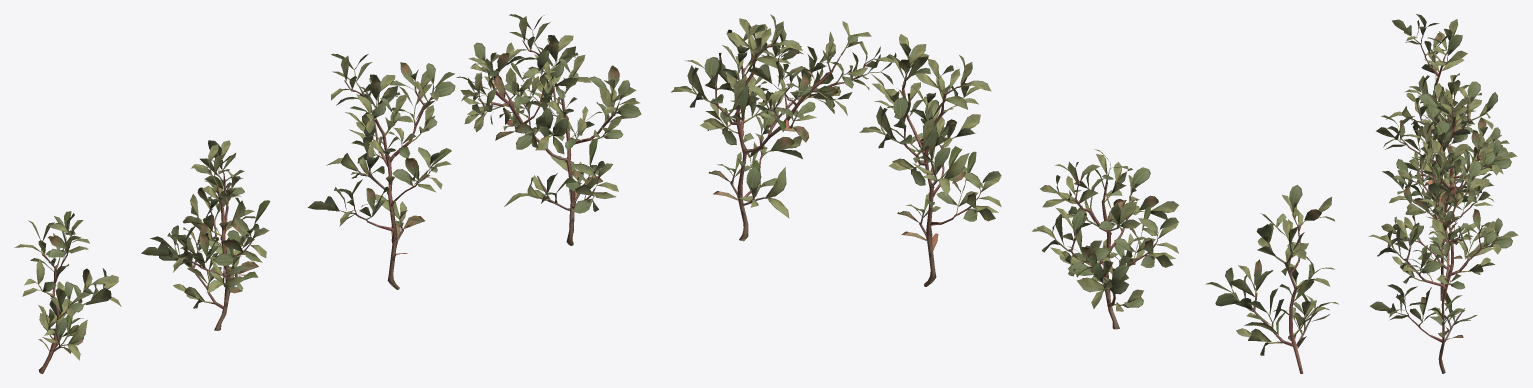
Rendered from shrub_04.glb.
3 views of the same model, side by side, from view 1: azimuth 30°, elevation 25°; view 2: azimuth 150°, elevation 25°; view 3: azimuth 270°, elevation 25° (orthographic). The views are drawn at different scales.
Parts seen in each view (by area): view 1: shrub_04; view 2: shrub_04; view 3: shrub_04.
Boxes of the visible parts, x1,y1,x2,y2 form: shrub_04: (14, 14, 641, 373); shrub_04: (671, 14, 1338, 373); shrub_04: (1368, 14, 1518, 373).
Size of the model in its own units: 0.5837 by 0.2192 by 0.1461.
Materials: 1 (1 with a texture image).
